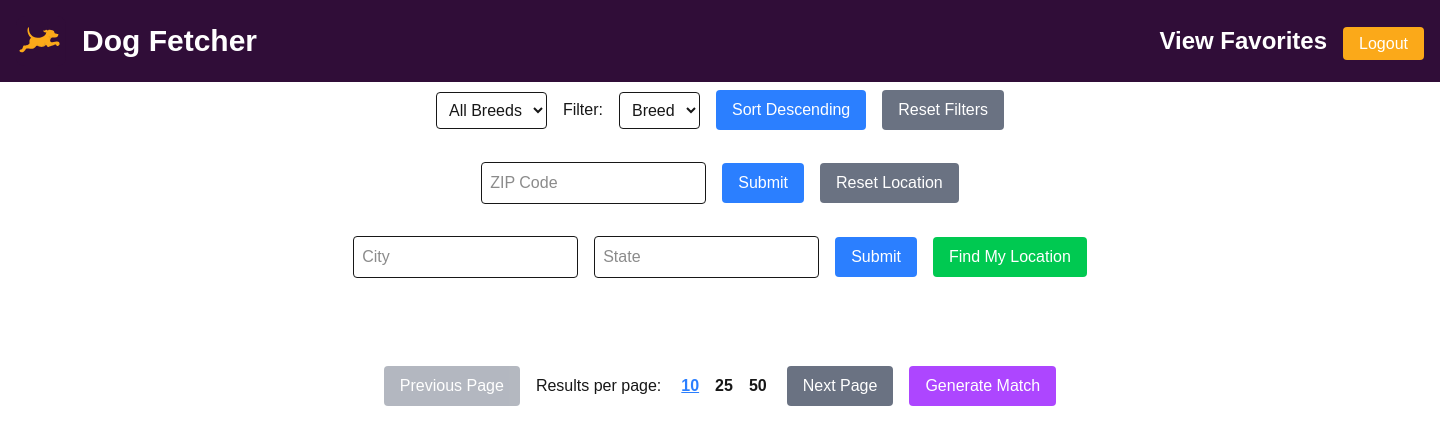
Test: Home › toggles sort order
Click the button "Sort Descending" at (791, 110), box [716,90,866,130]
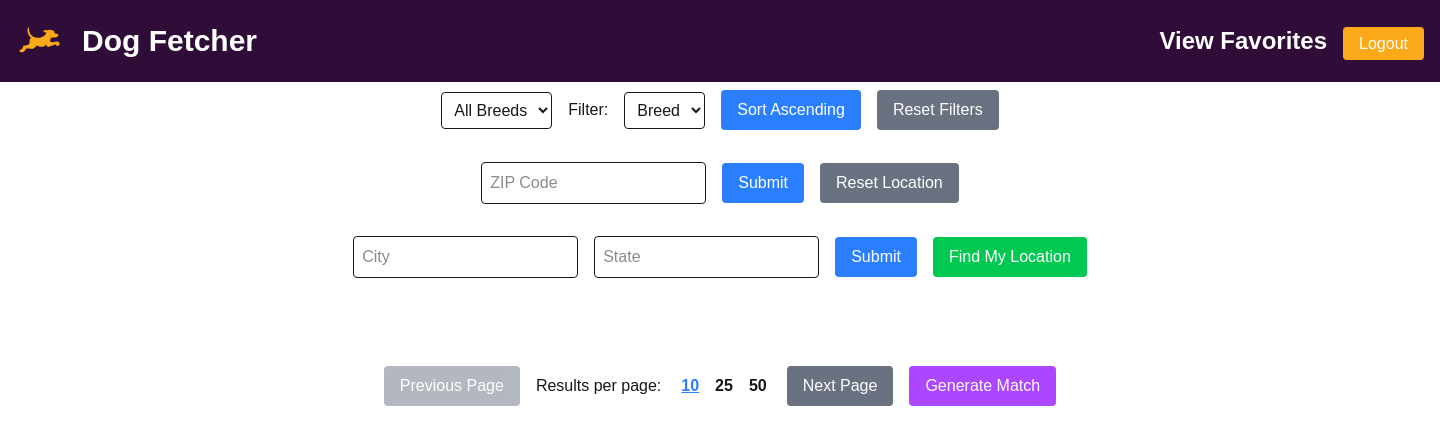
Expected: the button "Sort Descending" reads "Sort Ascending", [721,90,861,130]
